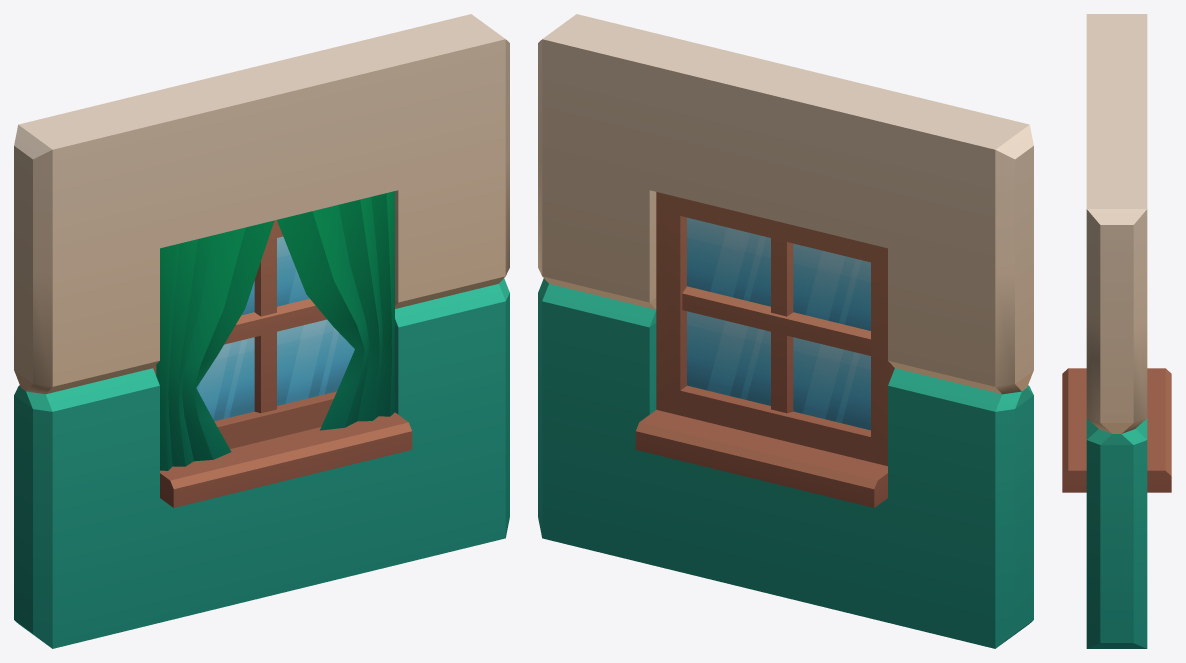
File: wall_window_closed_curtains_green.obj
The picture shows the model from 3 angles, left to right: view 1: azimuth 30°, elevation 25°; view 2: azimuth 150°, elevation 25°; view 3: azimuth 270°, elevation 25°; orthographic projection. The views are drawn at different scales.
Parts seen in each view (by area): view 1: wall_window_closed_curtains_green_Cube.426; view 2: wall_window_closed_curtains_green_Cube.426; view 3: wall_window_closed_curtains_green_Cube.426.
Part boxes in pixels (x1,y1,x2,y2): wall_window_closed_curtains_green_Cube.426: [14, 14, 509, 648]; wall_window_closed_curtains_green_Cube.426: [538, 14, 1033, 648]; wall_window_closed_curtains_green_Cube.426: [1062, 14, 1171, 648].
Size of the model in its own units: 4 by 4 by 0.9.
Materials: 1 (1 with a texture image).
